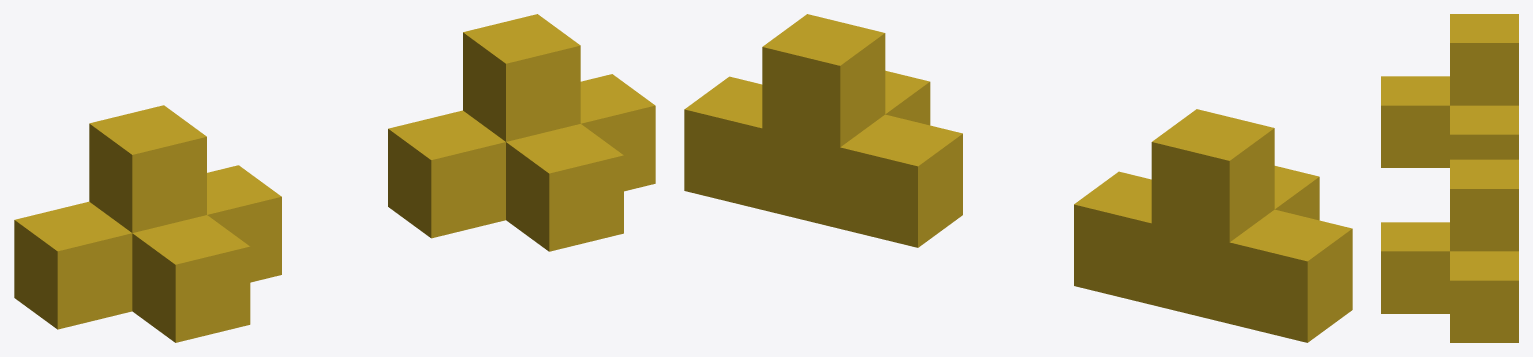
File: toriLG.obj
3 views of the same model, side by side, from view 1: azimuth 30°, elevation 25°; view 2: azimuth 150°, elevation 25°; view 3: azimuth 270°, elevation 25° (orthographic). The views are drawn at different scales.
Visible parts, largest first — view 1: 立方体.074; view 2: 立方体.074; view 3: 立方体.074.
Boxes of the visible parts, x1=… form: 立方体.074: x1=14, y1=14, x2=655, y2=342; 立方体.074: x1=684, y1=14, x2=1352, y2=342; 立方体.074: x1=1381, y1=14, x2=1518, y2=342.
Bounding box in the file's own units: 1.28 × 0.32 × 0.32.
